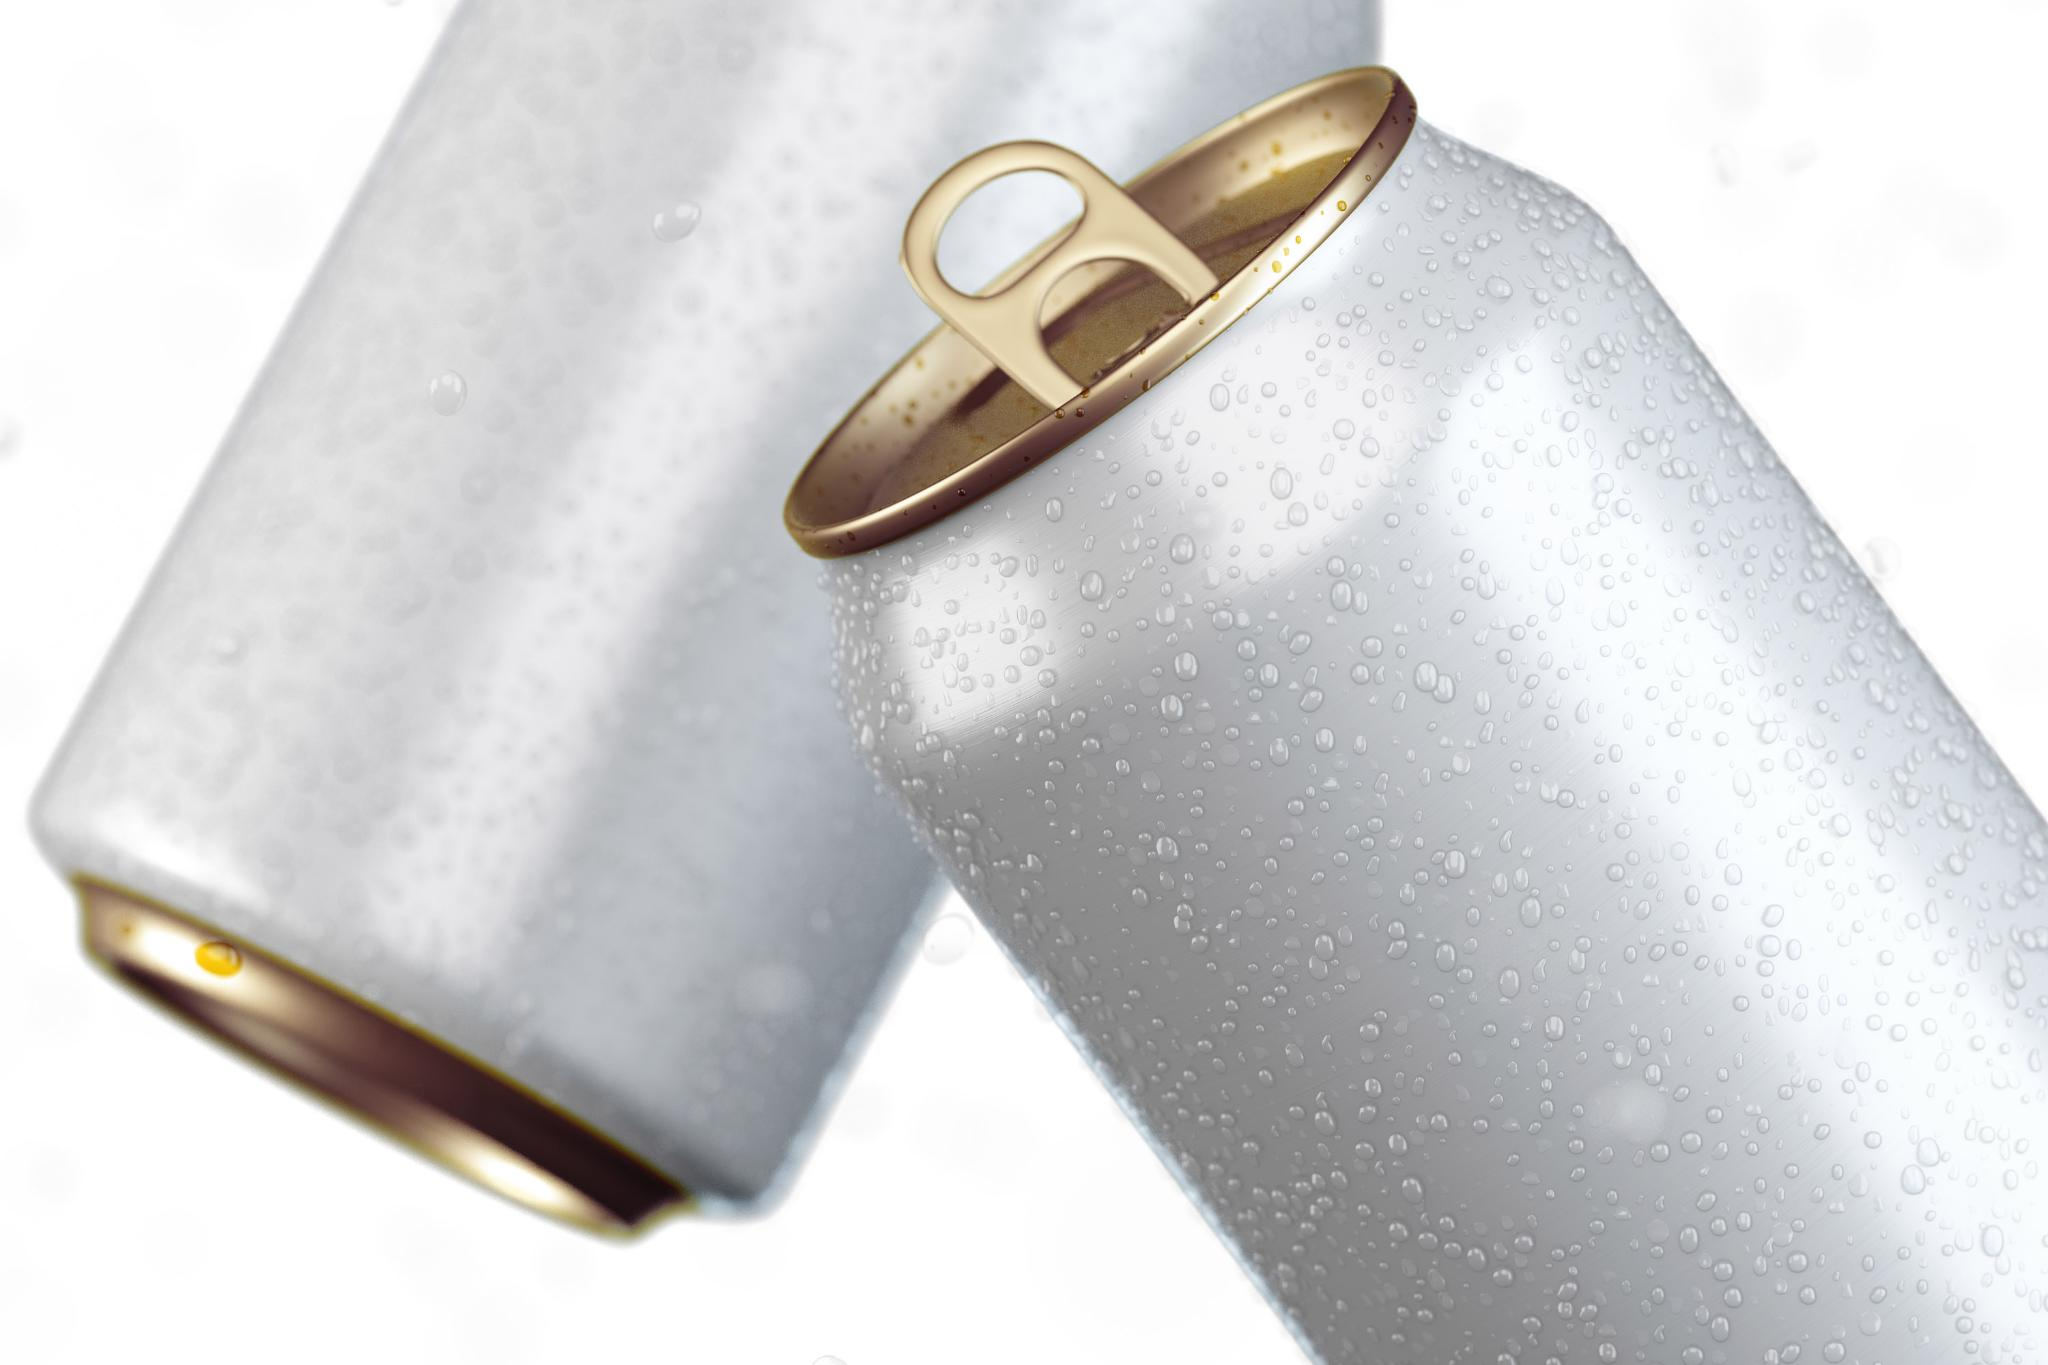metal: (786, 67, 2046, 1359), (35, 0, 1373, 1213)
